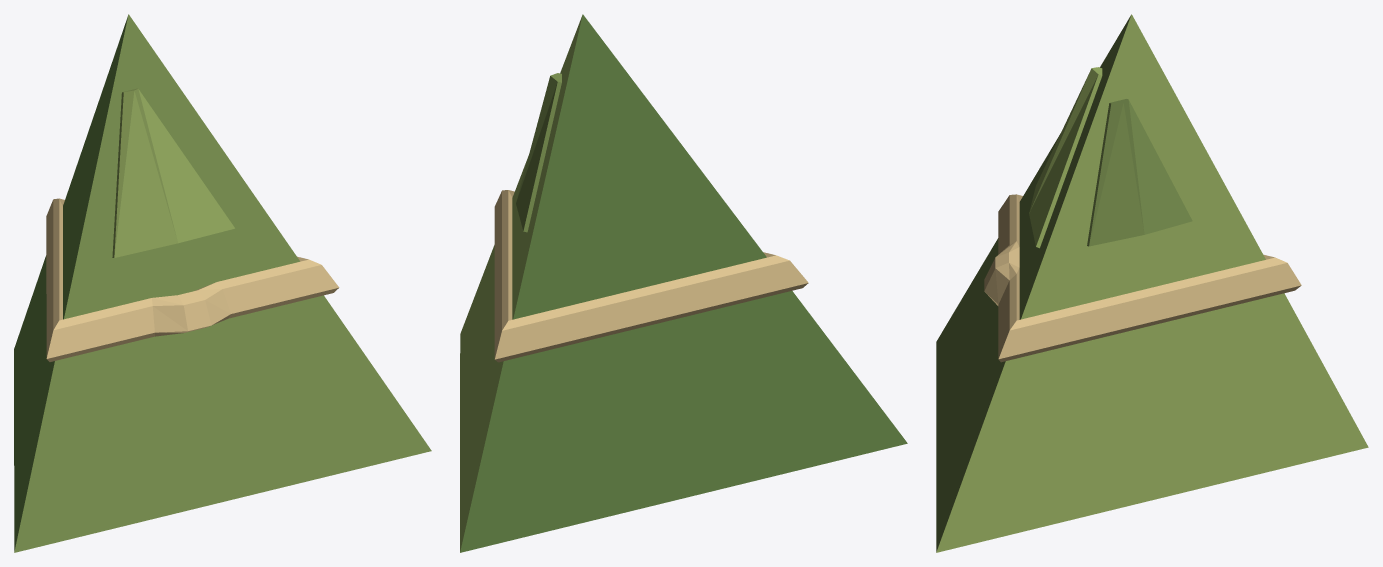
The picture shows the model from 3 angles, left to right: view 1: azimuth 30°, elevation 25°; view 2: azimuth 150°, elevation 25°; view 3: azimuth 270°, elevation 25°; orthographic projection. The views are drawn at different scales.
Parts seen in each view (by area): view 1: Tetrahedral_LeafWrapped_Body, Continuous_StrawCord_AndFrontTie, Front_LeafOverlap_WithFold; view 2: Tetrahedral_LeafWrapped_Body, Continuous_StrawCord_AndFrontTie, Right_LeafOverlap_WithFold; view 3: Tetrahedral_LeafWrapped_Body, Continuous_StrawCord_AndFrontTie, Right_LeafOverlap_WithFold, Front_LeafOverlap_WithFold.
Part boxes in pixels (x1,y1,x2,y2): Tetrahedral_LeafWrapped_Body: (14,14,431,552); Continuous_StrawCord_AndFrontTie: (46,198,339,361); Front_LeafOverlap_WithFold: (112,88,234,257); Tetrahedral_LeafWrapped_Body: (460,14,907,552); Continuous_StrawCord_AndFrontTie: (494,190,808,362); Right_LeafOverlap_WithFold: (516,73,561,232); Tetrahedral_LeafWrapped_Body: (936,14,1368,552); Continuous_StrawCord_AndFrontTie: (984,194,1301,362); Right_LeafOverlap_WithFold: (1087,99,1192,246); Front_LeafOverlap_WithFold: (1029,67,1102,248).
Size of the model in its own units: 0.12 by 0.115 by 0.104.
